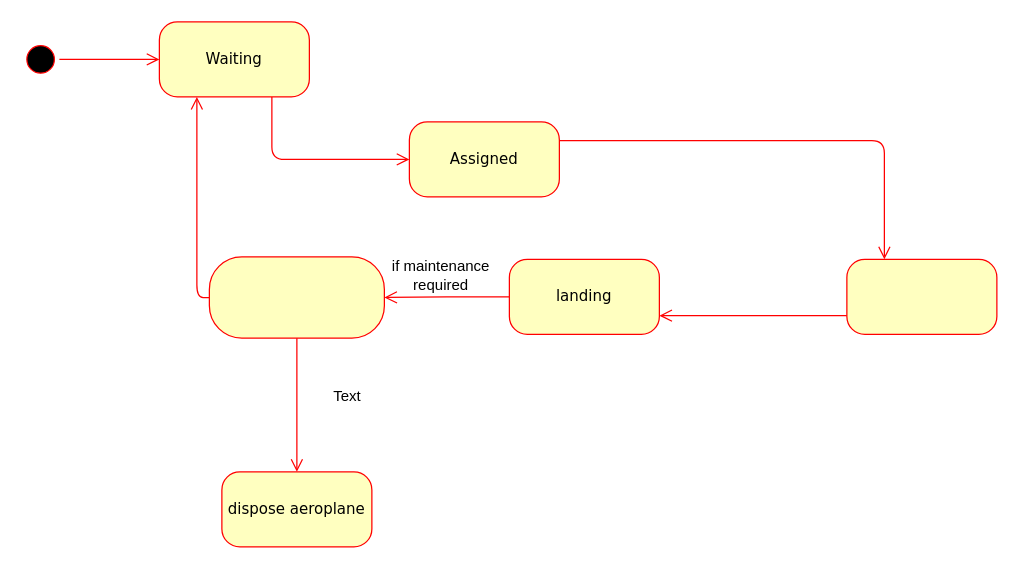
The diagram is 1019 pixels wide and 569 high, and some of its shapes have lost their labels. Each missing label, with the centre of its shape:
en route: point (921, 296)
maintenance: point (296, 297)
